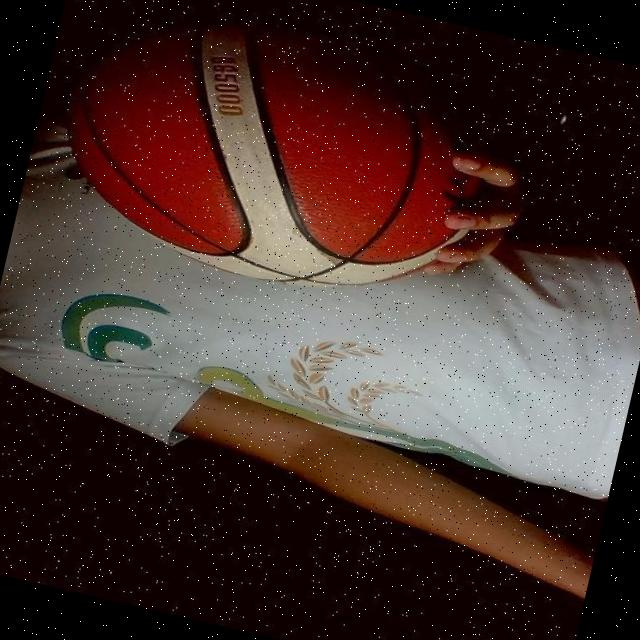ball: (32, 0, 511, 326)
